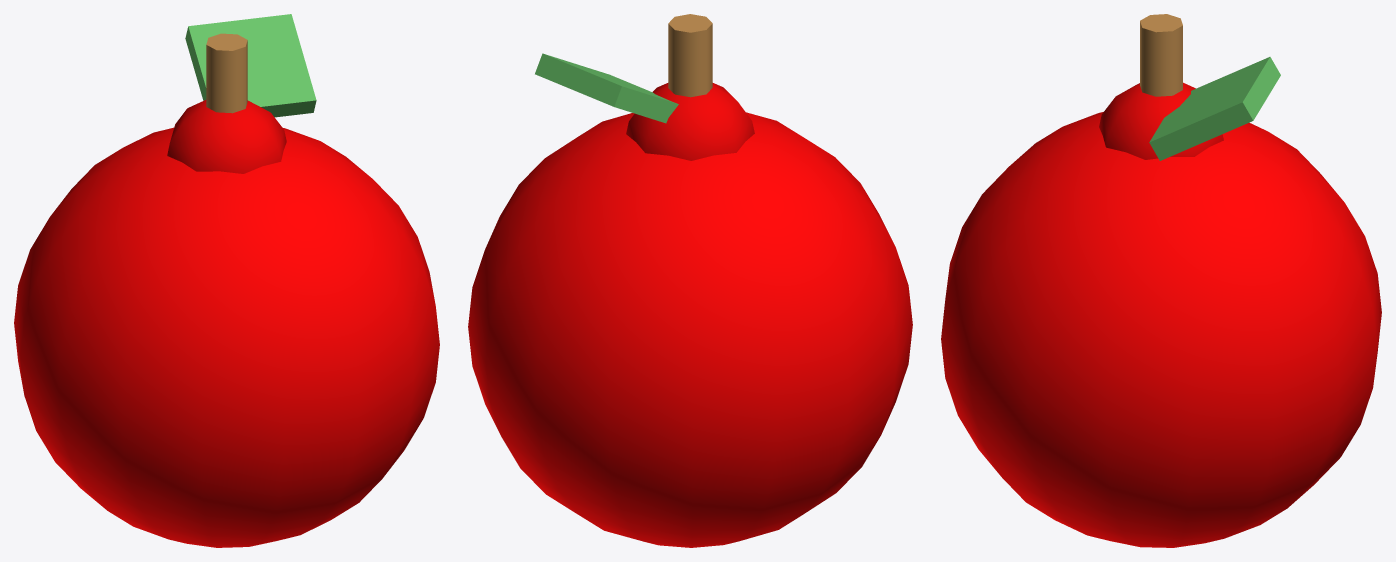
Rendered from apple.glb.
The picture shows the model from 3 angles, left to right: view 1: azimuth 30°, elevation 25°; view 2: azimuth 150°, elevation 25°; view 3: azimuth 270°, elevation 25°; orthographic projection. The views are drawn at different scales.
Bounding box in the file's own units: 0.9899 × 1.25 × 0.9899.
